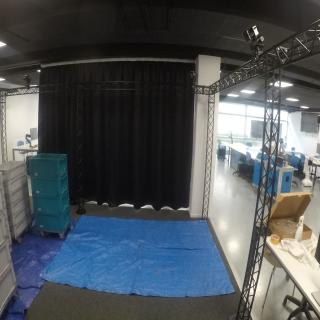BoxB4: (29, 152, 70, 180), (33, 212, 75, 232), (33, 177, 72, 198), (32, 196, 71, 213)
